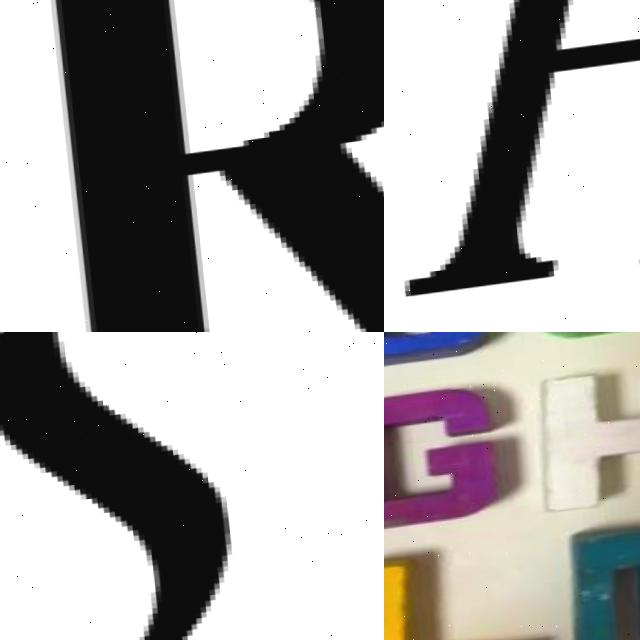G: (384, 383, 507, 531)
H: (399, 0, 640, 296), (535, 362, 640, 518)
L: (384, 544, 528, 640)
M: (562, 515, 640, 640)
R: (0, 0, 384, 332)
S: (0, 332, 340, 640)
